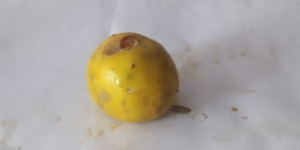BAD: (86, 29, 179, 123)
